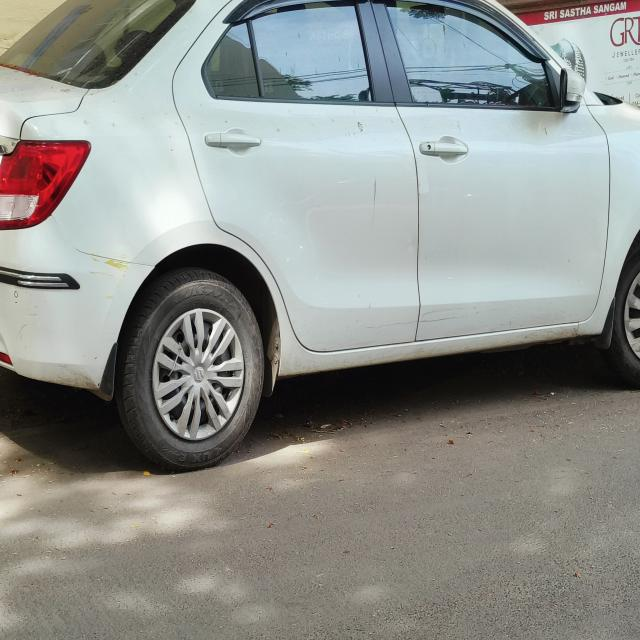scratch: (361, 306, 484, 333), (76, 239, 131, 272), (371, 173, 381, 225)
